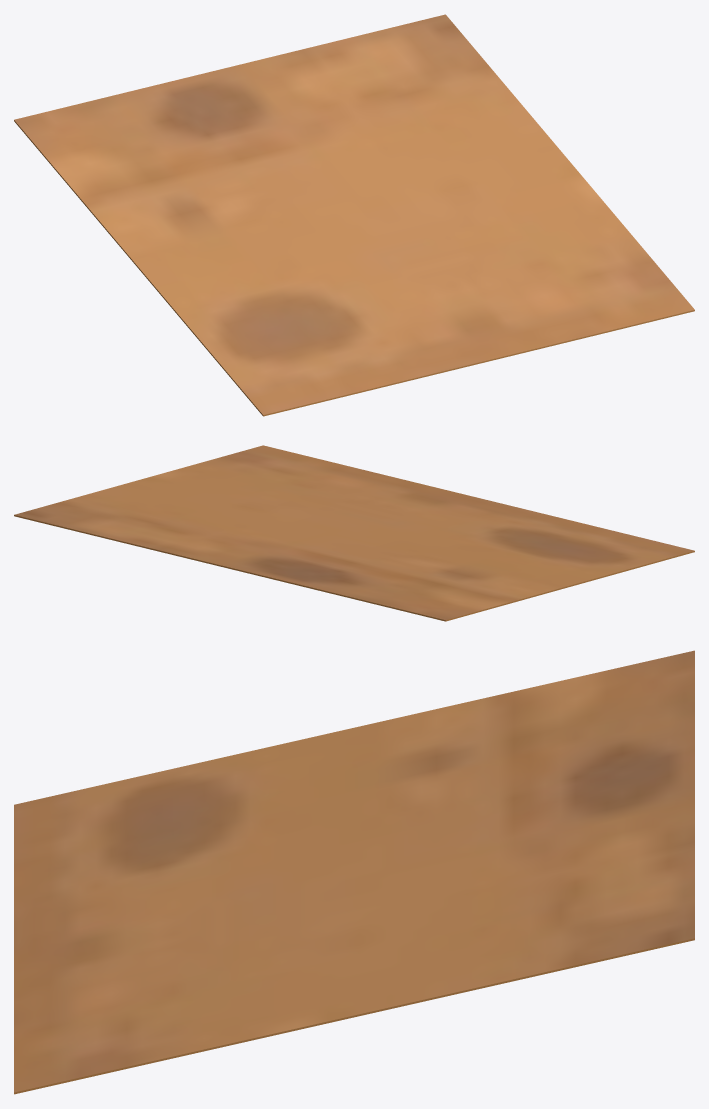
File: rc_terrain_path_uphill_16x16x4.glb
3 renders of one model, top to bottom at view 1: azimuth 30°, elevation 25°; view 2: azimuth 150°, elevation 25°; view 3: azimuth 270°, elevation 25°, orthographic. The views are drawn at different scales.
Parts seen in each view (by area): view 1: SM_RC_Terrain_Path_Uphill_16x16x4; view 2: SM_RC_Terrain_Path_Uphill_16x16x4; view 3: SM_RC_Terrain_Path_Uphill_16x16x4.
Part boxes in pixels (bbox=[...]): SM_RC_Terrain_Path_Uphill_16x16x4: bbox=[14, 14, 694, 416]; SM_RC_Terrain_Path_Uphill_16x16x4: bbox=[14, 445, 694, 621]; SM_RC_Terrain_Path_Uphill_16x16x4: bbox=[14, 650, 694, 1094].
Size of the model in its own units: 16 by 4.05 by 16.
Materials: 1 (1 with a texture image).
